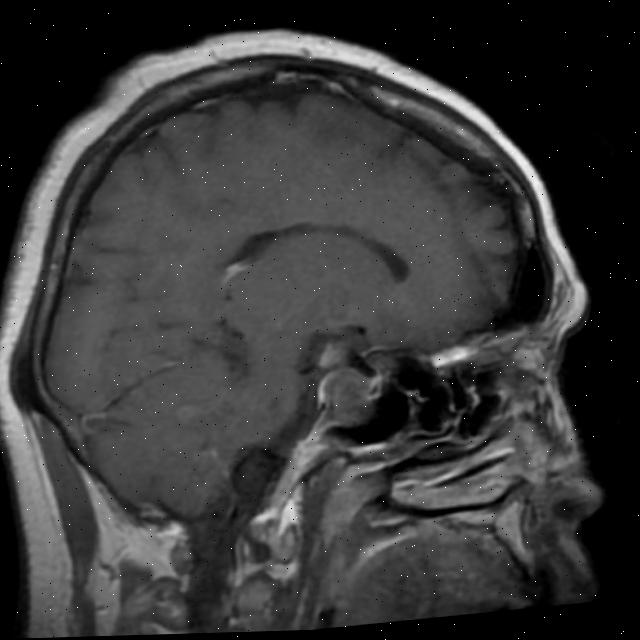Pituitary: (312, 364, 377, 432)
